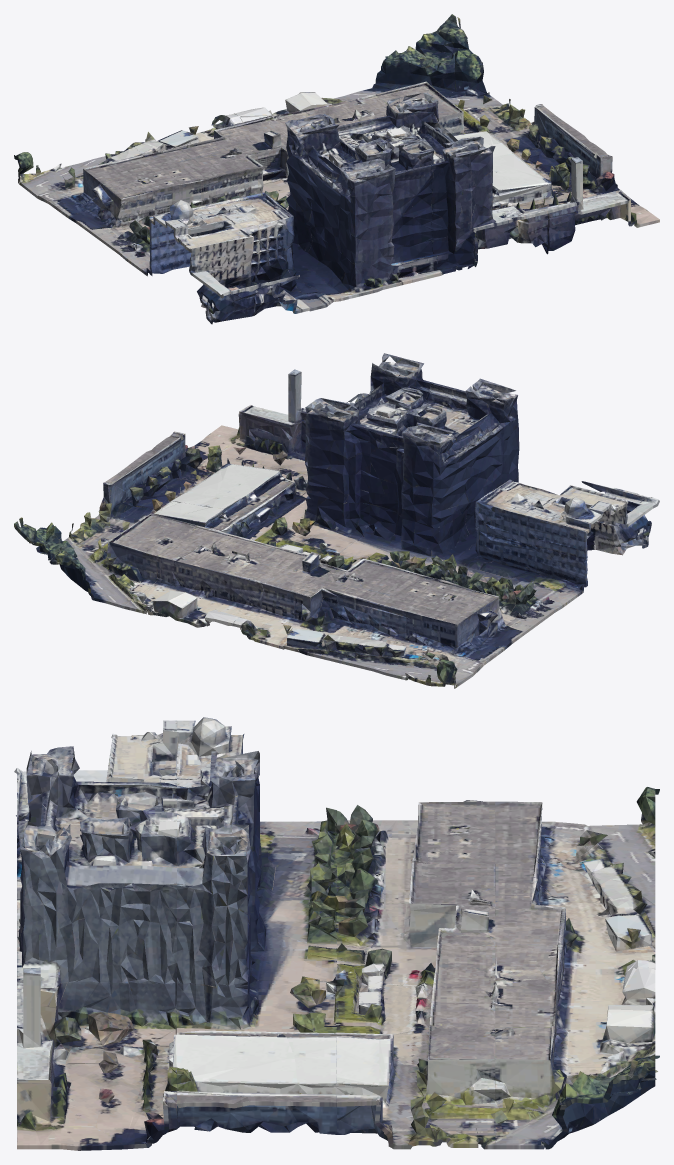
File: Split14.fbx
The picture shows the model from 3 angles, top to bottom: view 1: azimuth 30°, elevation 25°; view 2: azimuth 150°, elevation 25°; view 3: azimuth 270°, elevation 25°; orthographic projection. The views are drawn at different scales.
Visible parts, largest first — view 1: BuildingMesh-00014; view 2: BuildingMesh-00014; view 3: BuildingMesh-00014.
Part boxes in pixels (<box>): BuildingMesh-00014: <box>14,14,659,324</box>; BuildingMesh-00014: <box>14,353,659,688</box>; BuildingMesh-00014: <box>14,717,659,1150</box>.
Bounding box in the file's own units: 194 × 52.16 × 162.
4 materials, 4 textured.
